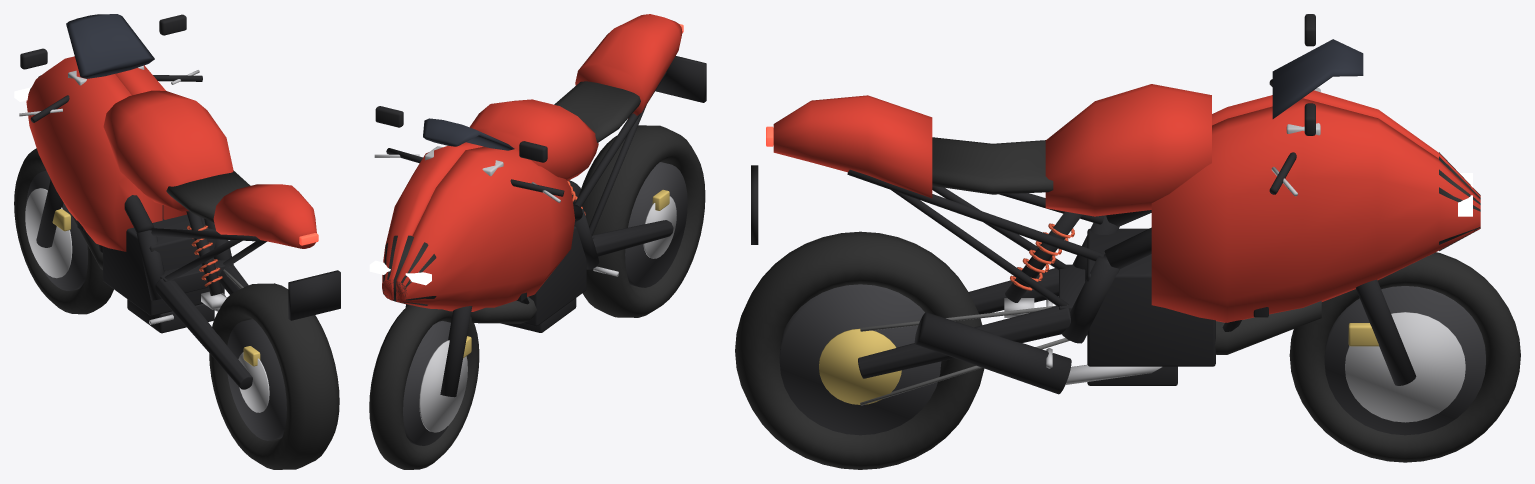
File: sb1000_wip.glb
3 renders of one model, left to right at view 1: azimuth 30°, elevation 25°; view 2: azimuth 150°, elevation 25°; view 3: azimuth 270°, elevation 25°, orthographic. The views are drawn at different scales.
Parts seen in each view (by area): view 1: RearTyre, FairingL, Tank, Engine, Tail, Screen, Swingarm, FrontTyre, RearRim, FrontDiscL, PlateHolder, Frame (+12 smaller); view 2: FairingL, RearTyre, FrontTyre, Tail, Tank, RearRim, FairingR, Engine, Seat, FrontDiscL, FrontRim, Subframe (+12 smaller); view 3: FairingR, RearTyre, Tank, FrontTyre, RearRim, Tail, Engine, FrontDiscR, FrontRim, Swingarm, Seat, Can (+10 smaller).
Boxes of the visible parts, left/top/right/bottom form: RearTyre: left=209, top=283, right=339, bottom=469; FairingL: left=26, top=56, right=162, bottom=251; Tank: left=103, top=90, right=233, bottom=211; Engine: left=103, top=205, right=224, bottom=333; Tail: left=213, top=184, right=316, bottom=248; Screen: left=66, top=14, right=154, bottom=78; Swingarm: left=155, top=259, right=252, bottom=389; FrontTyre: left=14, top=148, right=113, bottom=314; RearRim: left=227, top=319, right=286, bottom=440; FrontDiscL: left=25, top=188, right=72, bottom=278; PlateHolder: left=288, top=270, right=340, bottom=320; Frame: left=99, top=195, right=233, bottom=300; FairingL: left=396, top=146, right=575, bottom=311; RearTyre: left=578, top=125, right=705, bottom=317; FrontTyre: left=369, top=305, right=479, bottom=469; Tail: left=575, top=14, right=682, bottom=118; Tank: left=470, top=99, right=598, bottom=181; RearRim: left=625, top=162, right=687, bottom=287; FairingR: left=382, top=142, right=483, bottom=300; Engine: left=501, top=226, right=586, bottom=332; Seat: left=554, top=81, right=640, bottom=142; FrontDiscL: left=419, top=340, right=467, bottom=432; FrontRim: left=403, top=321, right=450, bottom=445; Subframe: left=573, top=72, right=666, bottom=235; FairingR: left=1151, top=98, right=1480, bottom=322; RearTyre: left=735, top=231, right=984, bottom=469; Tank: left=1045, top=84, right=1211, bottom=216; FrontTyre: left=1289, top=252, right=1520, bottom=462; RearRim: left=779, top=284, right=941, bottom=435; Tail: left=773, top=95, right=932, bottom=198; Engine: left=1087, top=228, right=1215, bottom=385; FrontDiscR: left=1345, top=312, right=1465, bottom=422; FrontRim: left=1324, top=286, right=1485, bottom=435; Swingarm: left=858, top=264, right=1085, bottom=378; Seat: left=932, top=137, right=1053, bottom=194; Can: left=914, top=312, right=1071, bottom=394.
Bounding box in the file's own units: 0.7245 × 1.21 × 2.08.
